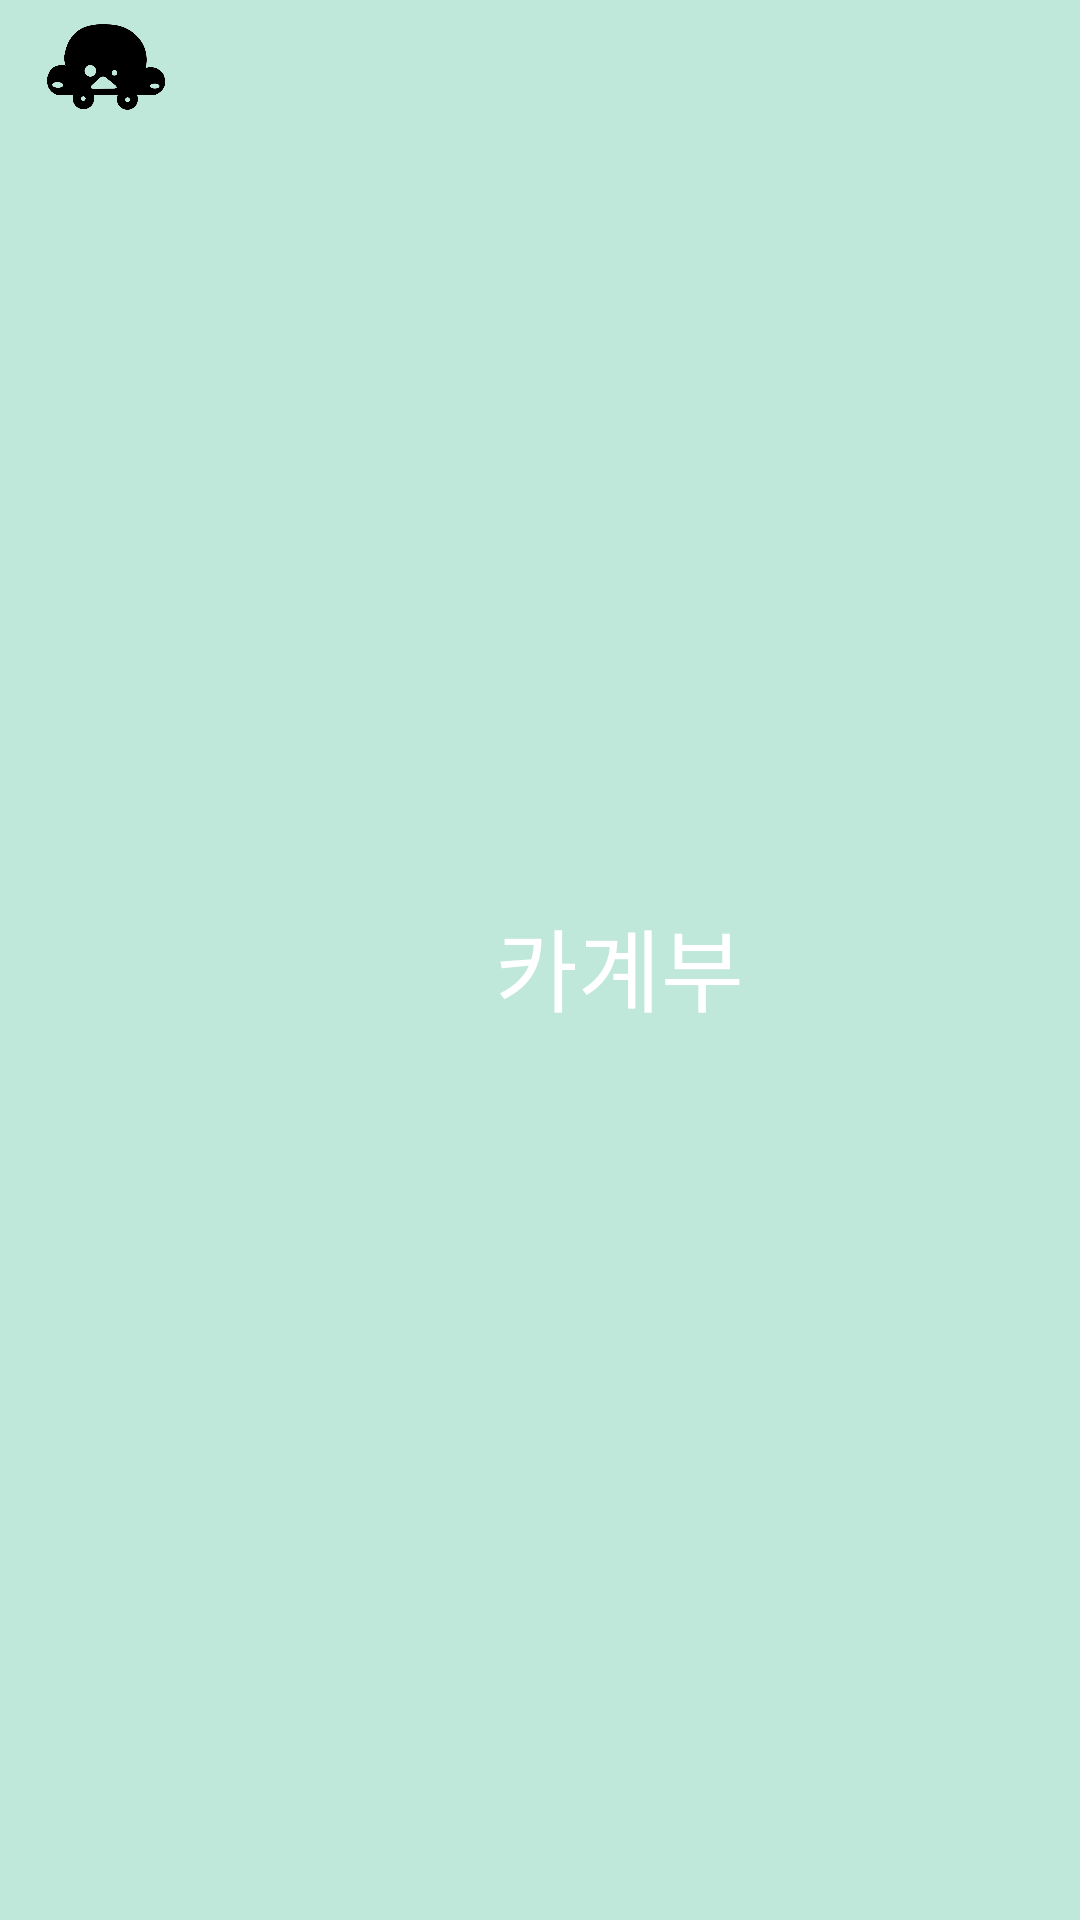

Locate icon controls on the screen. Image size 1080w x 1920h, boxes as (x1=x1, y1=y1, x2=x2, y2=y2).
car resize: (x1=47, y1=24, x2=165, y2=110)
